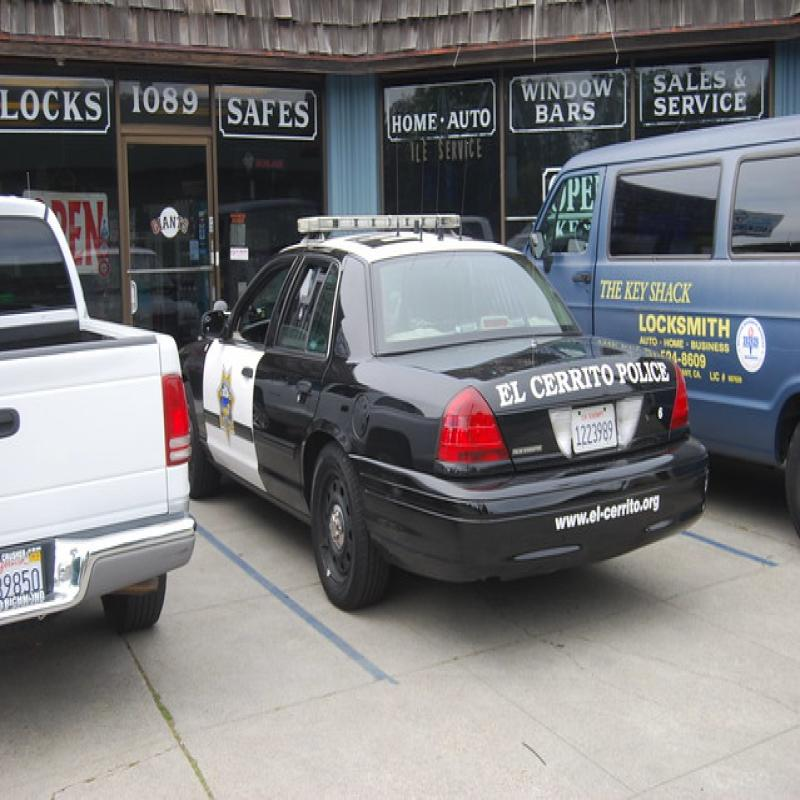AmbulanceSiren: (297, 191, 462, 253)
